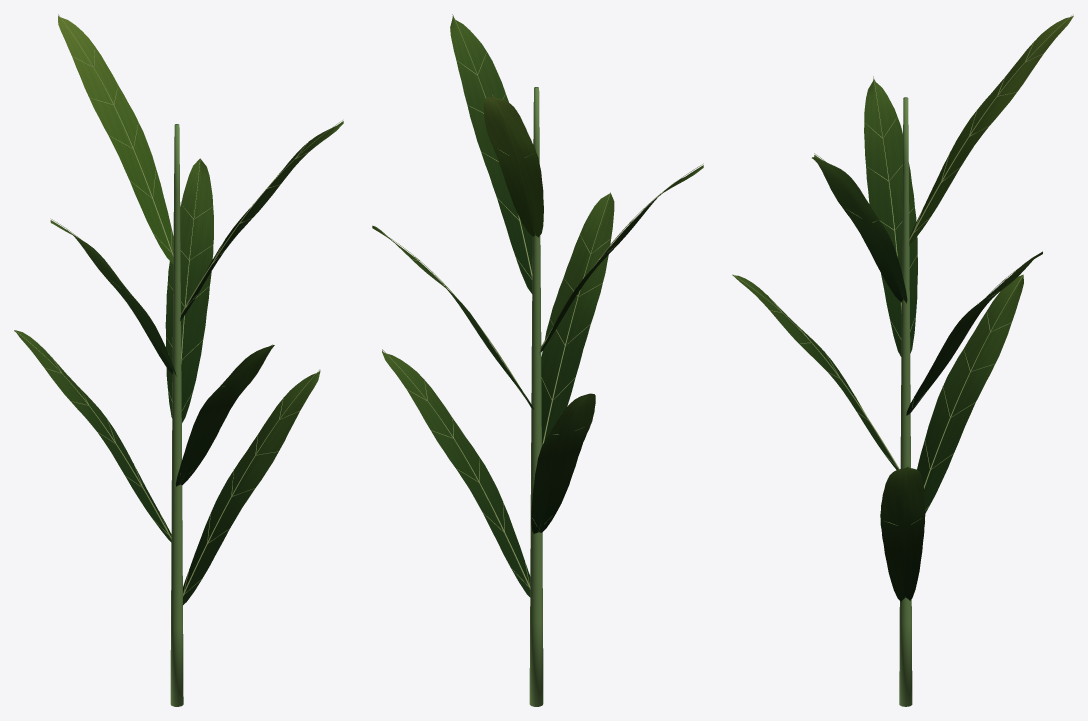
The model's file is iris-06.glb.
3 views of the same model, side by side, from view 1: azimuth 30°, elevation 25°; view 2: azimuth 150°, elevation 25°; view 3: azimuth 270°, elevation 25° (orthographic). The views are drawn at different scales.
Visible parts, largest first — view 1: iris_stage_06_leaf_veins.010, iris_stage_06_young_leaf.010, iris_stage_06_stem_fibres.010, iris_stage_06_raised_midveins.010; view 2: iris_stage_06_leaf_veins.010, iris_stage_06_stem_fibres.010, iris_stage_06_young_leaf.010, iris_stage_06_raised_midveins.010; view 3: iris_stage_06_leaf_veins.010, iris_stage_06_stem_fibres.010, iris_stage_06_young_leaf.010, iris_stage_06_raised_midveins.010.
Boxes of the visible parts, x1=… form: iris_stage_06_leaf_veins.010: x1=14, y1=121, x2=343, y2=605; iris_stage_06_young_leaf.010: x1=58, y1=16, x2=173, y2=263; iris_stage_06_stem_fibres.010: x1=170, y1=124, x2=183, y2=706; iris_stage_06_raised_midveins.010: x1=14, y1=14, x2=343, y2=596; iris_stage_06_leaf_veins.010: x1=372, y1=16, x2=703, y2=597; iris_stage_06_stem_fibres.010: x1=529, y1=87, x2=543, y2=706; iris_stage_06_young_leaf.010: x1=483, y1=96, x2=543, y2=237; iris_stage_06_raised_midveins.010: x1=382, y1=14, x2=703, y2=589; iris_stage_06_leaf_veins.010: x1=732, y1=79, x2=1042, y2=601; iris_stage_06_stem_fibres.010: x1=899, y1=97, x2=912, y2=706; iris_stage_06_young_leaf.010: x1=909, y1=15, x2=1073, y2=244; iris_stage_06_raised_midveins.010: x1=732, y1=14, x2=1073, y2=596.
Bounding box in the file's own units: 0.2024 × 0.433 × 0.2.
4 materials, 2 textured.
